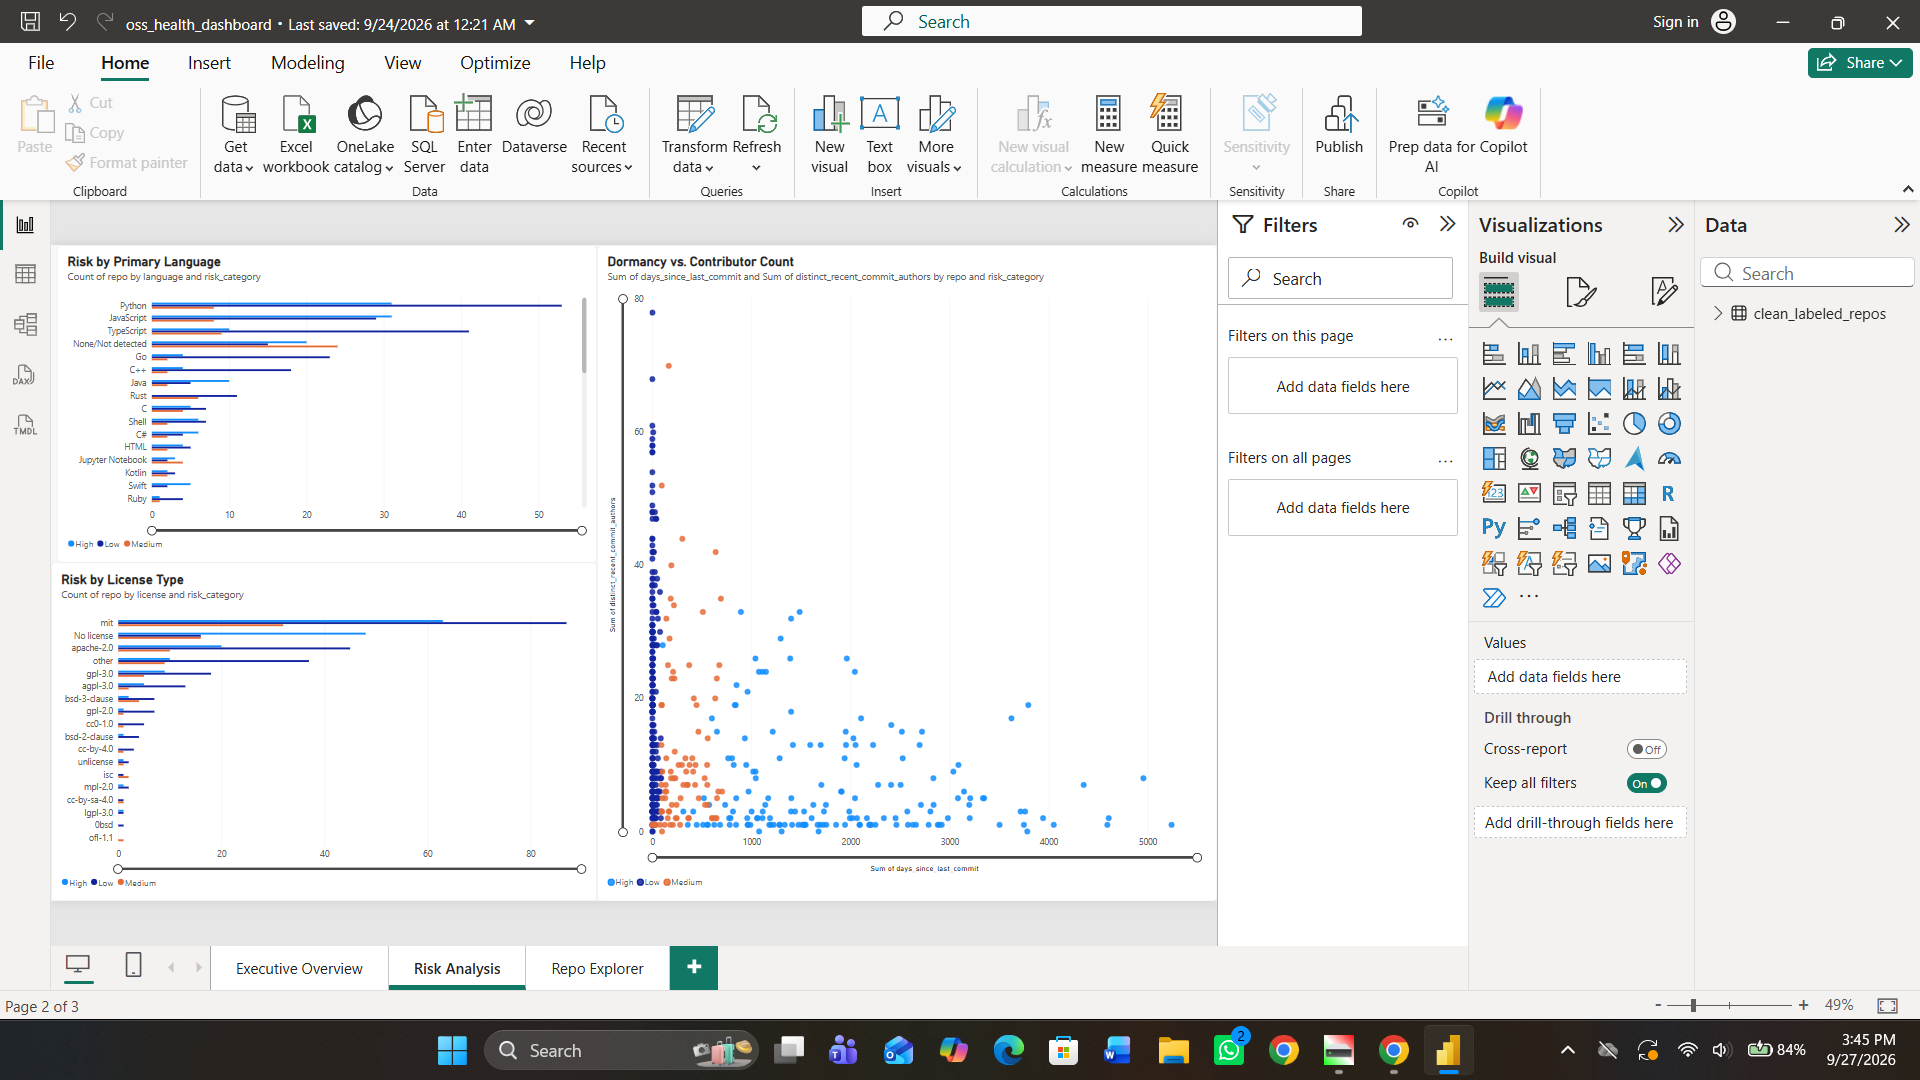

The dashboard page shown, as its layout file describes it:
{"tool":"powerbi","page":{"name":"Risk Analysis","canvas":[1920,1080],"ordinal":1},"visuals":[{"type":"clusteredBarChart","title":"Risk by Primary Language","fields":{"Category":["clean_labeled_repos.language"],"Series":["clean_labeled_repos.risk_category"],"Y":["CountNonNull(clean_labeled_repos.repo)"]},"box":[10.3,0,889.2,522.8],"z":0},{"type":"clusteredBarChart","title":"Risk by License Type","fields":{"Category":["clean_labeled_repos.license"],"Series":["clean_labeled_repos.risk_category"],"Y":["CountNonNull(clean_labeled_repos.repo)"]},"box":[0,522.8,899.5,557.8],"z":1},{"type":"scatterChart","title":"Dormancy vs. Contributor Count","fields":{"Category":["clean_labeled_repos.repo"],"Series":["clean_labeled_repos.risk_category"],"X":["Sum(clean_labeled_repos.days_since_last_commit)"],"Y":["Sum(clean_labeled_repos.distinct_recent_commit_authors)"]},"box":[899.5,0,1020.9,1080.6],"z":2}]}

Visuals, with their boxes on the page's 1920x1080 design canvas (x1, y1, x2, y2). These are canvas units, not pixel positions in the 1920x1080 screenshot, which may show the page scaled, cropped or inside an application window:
"Risk by Primary Language" clusteredBarChart: <box>10,0,900,523</box>
"Risk by License Type" clusteredBarChart: <box>0,523,900,1081</box>
"Dormancy vs. Contributor Count" scatterChart: <box>900,0,1920,1081</box>
